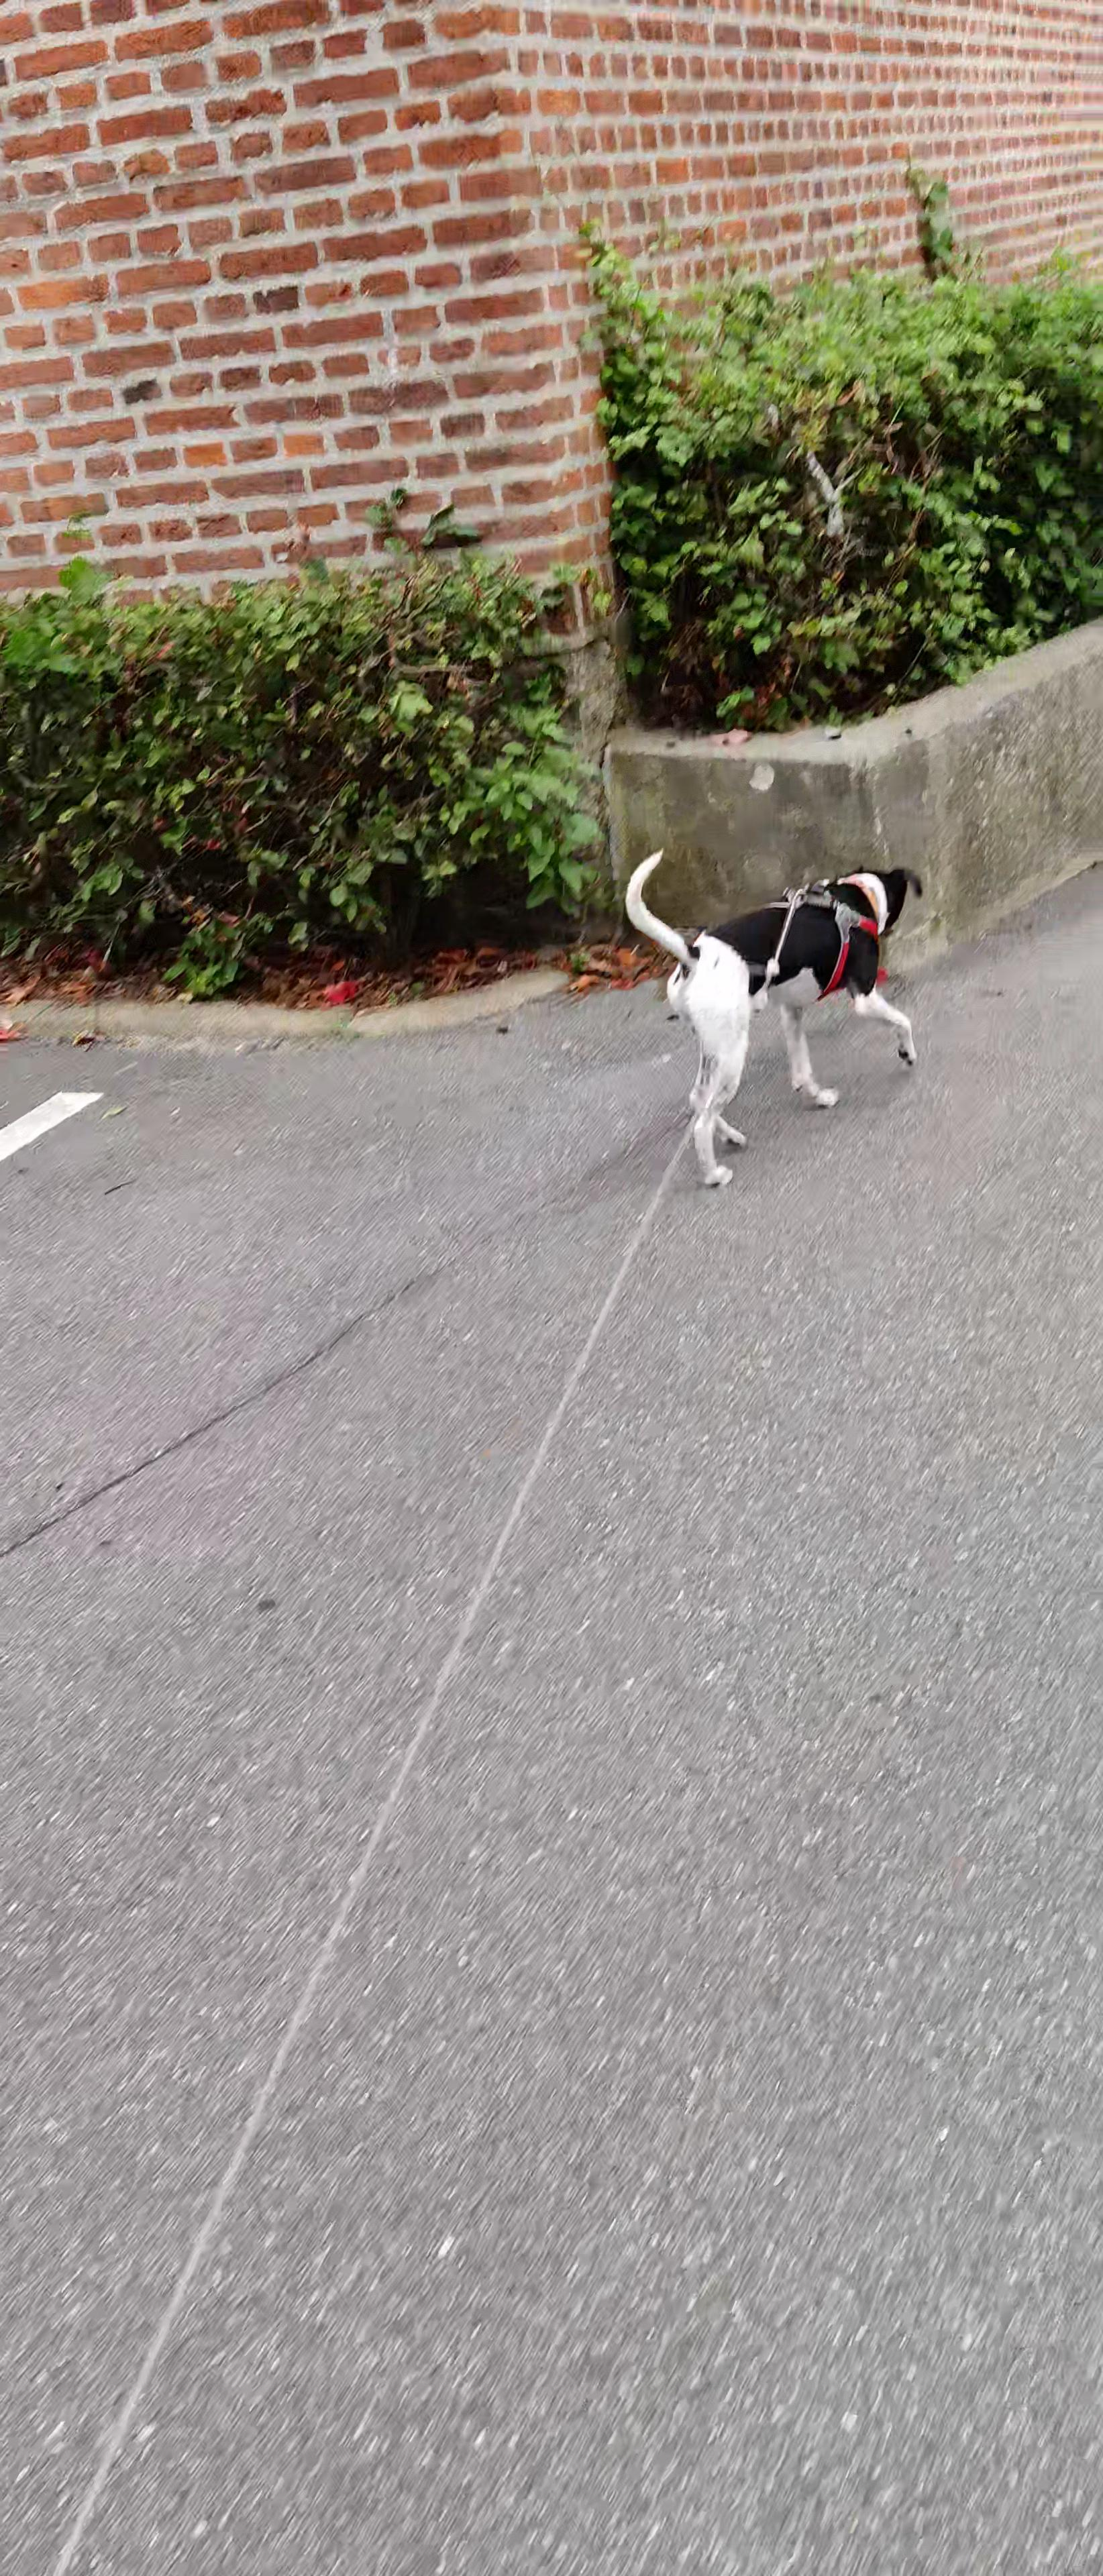Dog: (598, 830, 960, 1201)
